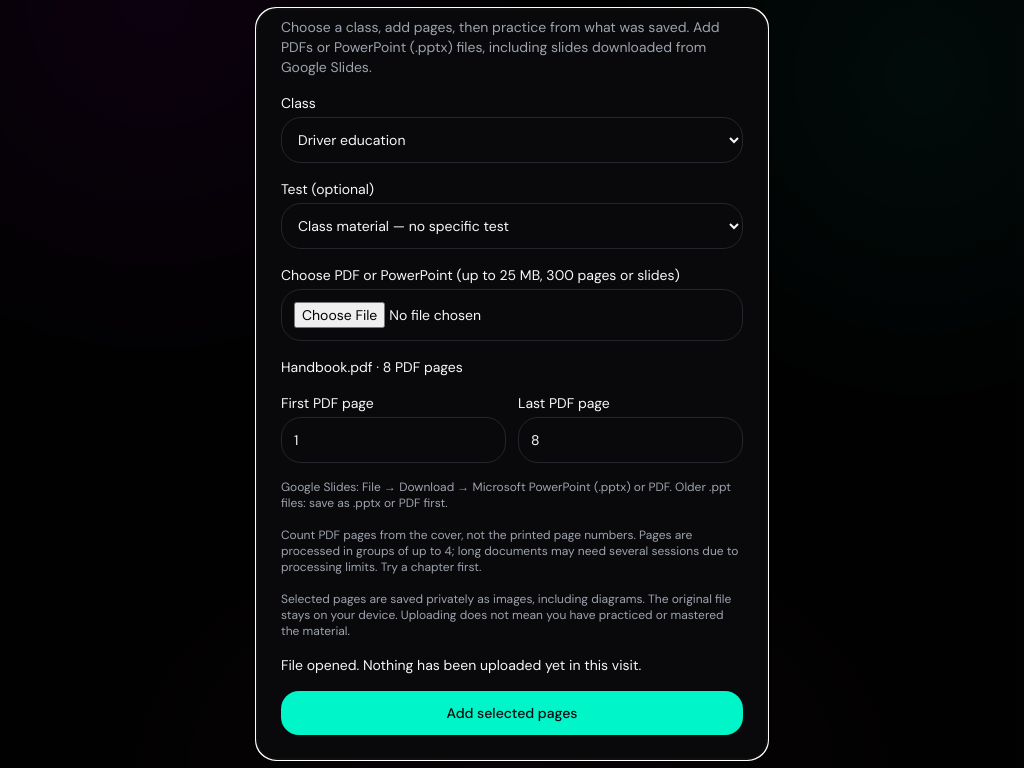
Test: PDF study import UI › refuses a different reselected PDF without changing the saved attempt IDs
This screenshot has width=1024, height=768.
Earlier steps of the test are not shown.
Later steps or results of the test are not shown.
(page scrolled)
Expected: the text "Handbook.pdf · 8 PDF pages" is shown, [281,358,463,376]
Click the button "Add selected pages".
click(512, 713)  # box [281,691,743,735]
(page scrolled)
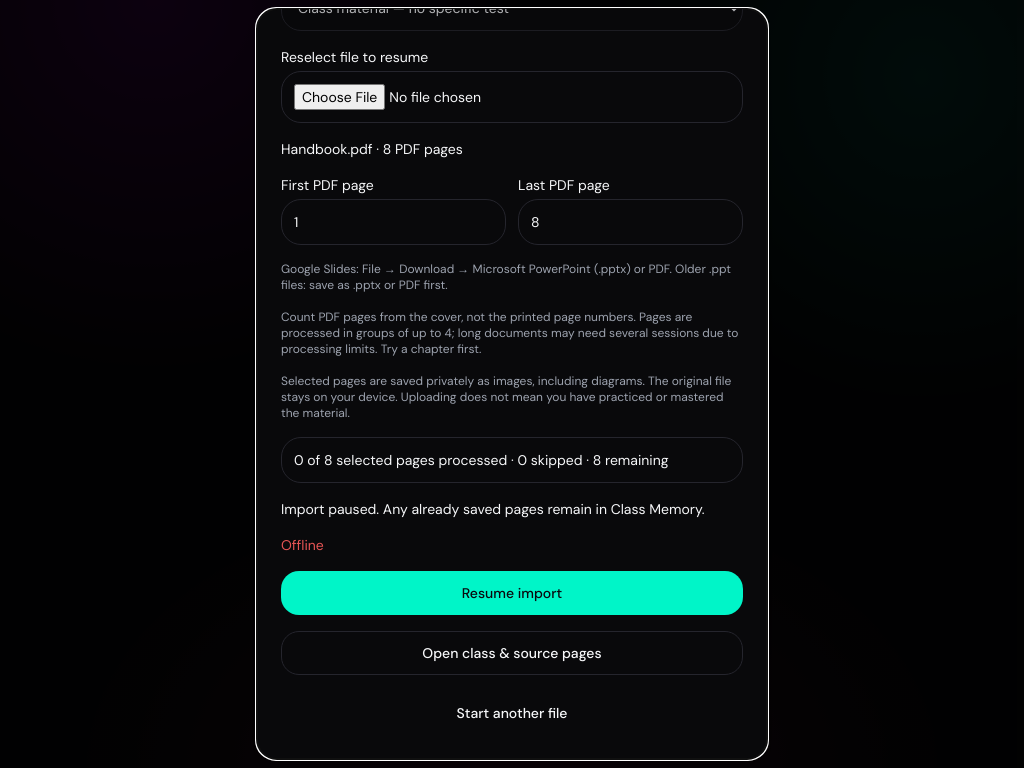
Result: the text "Offline" is shown at [281,536,324,554]
